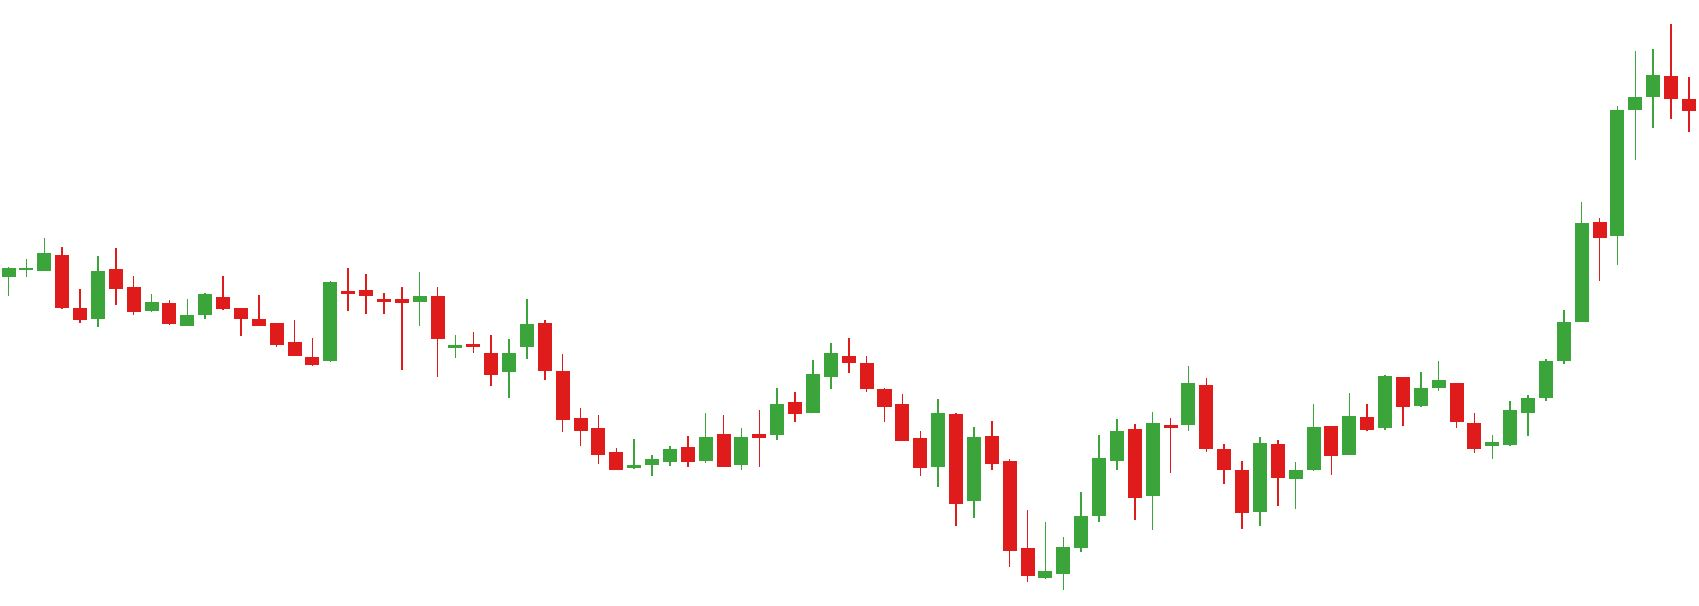buy: (1125, 408, 1270, 530)
